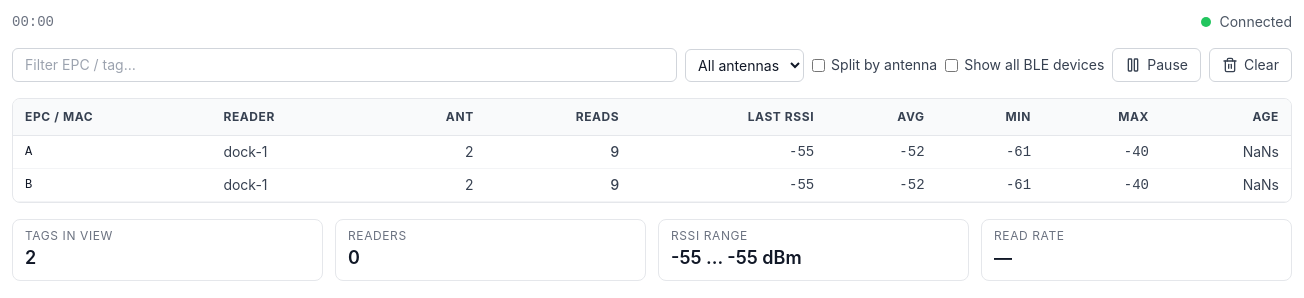
Test: LiveReadsFeed › a text column cycles asc first (column-aware first direction)
Step 1. Click the button "EPC / MAC" → (59, 117), box top-left (25, 109), bottom-right (93, 125)
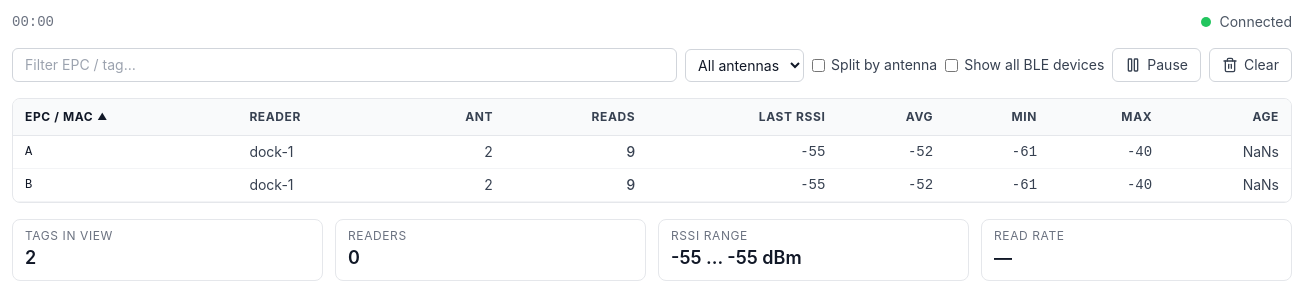
Expected: the row "A dock-1 2 9 -55 -52 -61 -40 NaNs" is shown, top-left (13, 136), bottom-right (1291, 168)
Expected: the text "▲" is shown, top-left (97, 109), bottom-right (108, 125)
